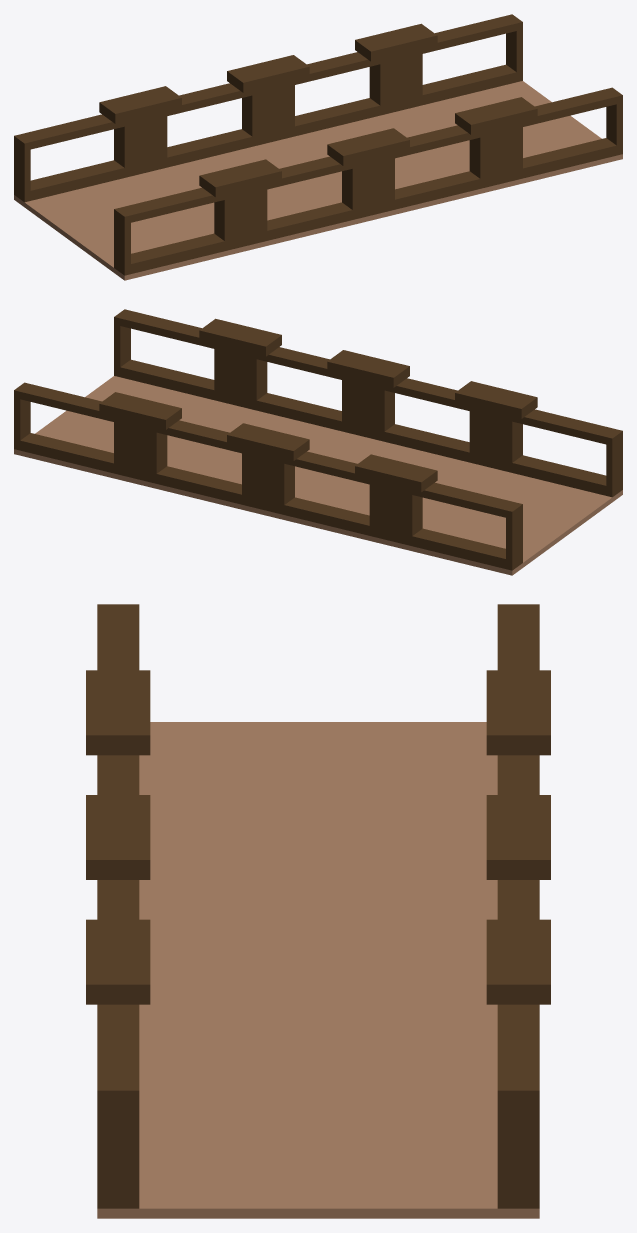
File: Bridge.fbx
3 views of the same model, one above another, from view 1: azimuth 30°, elevation 25°; view 2: azimuth 150°, elevation 25°; view 3: azimuth 270°, elevation 25° (orthographic). The views are drawn at different scales.
Visible parts, largest first — view 1: Bridge, Floor, Tops; view 2: Bridge, Floor, Tops; view 3: Floor, Tops, Bridge.
Boxes of the visible parts, x1=… form: Bridge: x1=14, y1=14, x2=622, y2=275; Floor: x1=14, y1=81, x2=622, y2=280; Tops: x1=99, y1=23, x2=537, y2=197; Bridge: x1=14, y1=309, x2=622, y2=570; Floor: x1=14, y1=376, x2=622, y2=575; Tops: x1=99, y1=318, x2=537, y2=492; Floor: x1=97, y1=722, x2=539, y2=1218; Tops: x1=86, y1=670, x2=550, y2=1004; Bridge: x1=97, y1=604, x2=539, y2=1208.
Bounding box in the file's own units: 1040 × 147 × 420.
